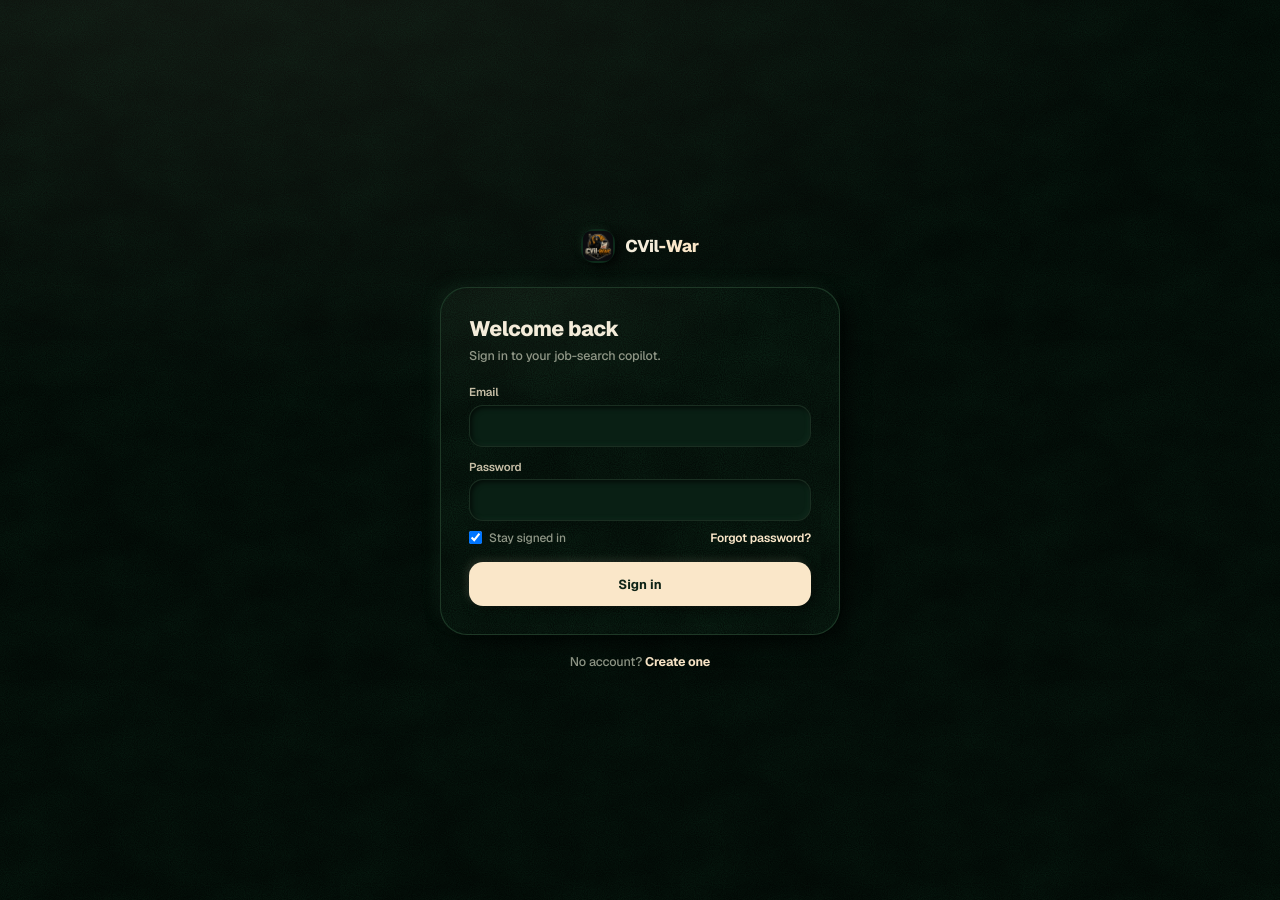
it: LoginPage error handling › tells the user it is an outage when the server 5xxs, not a credential problem
Type "me@test.dev" into the field labelled "Email" at (640,426), box [469,405,811,447]
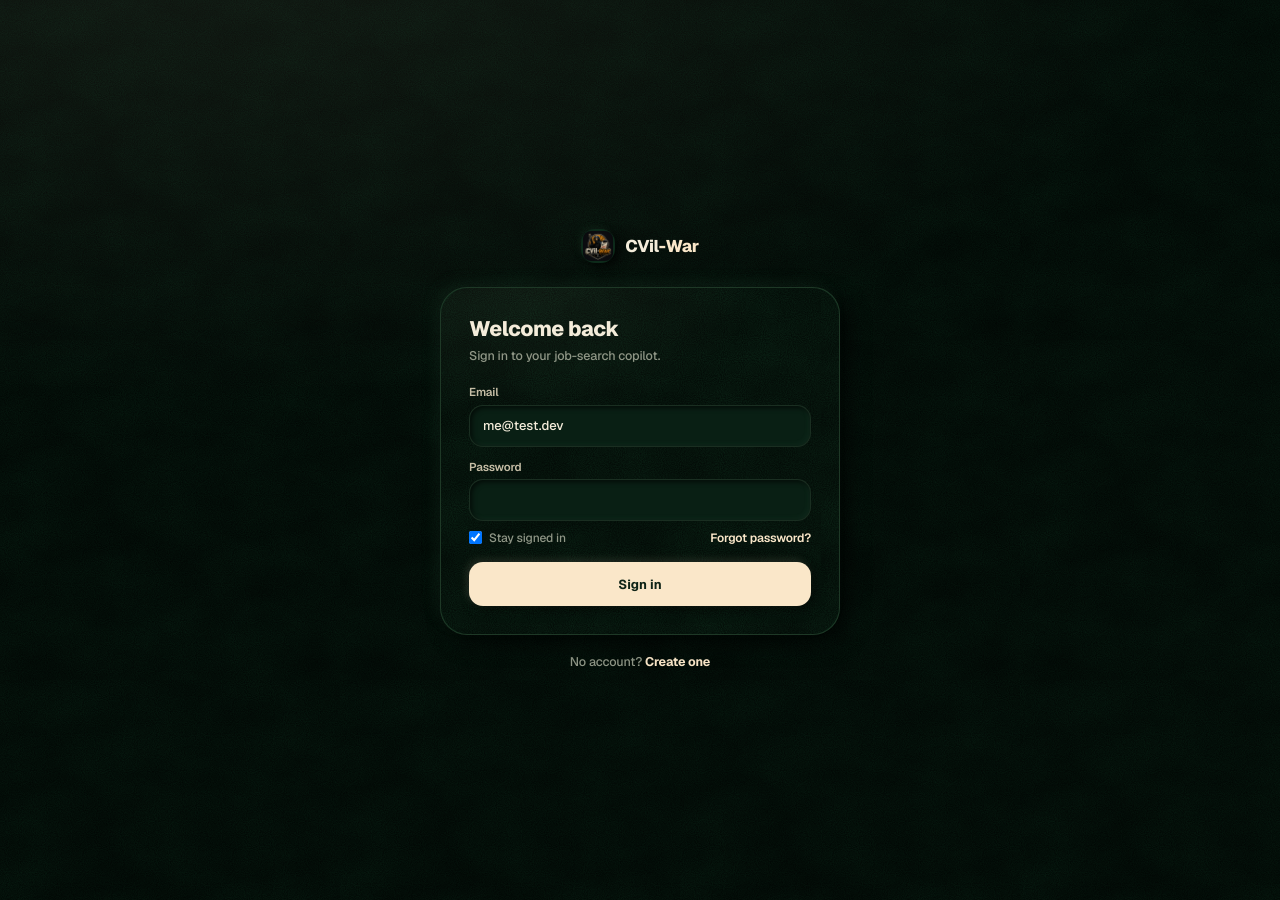
Type "whatever123" into the password field labelled "Password" at (640,500), box [469,479,811,521]
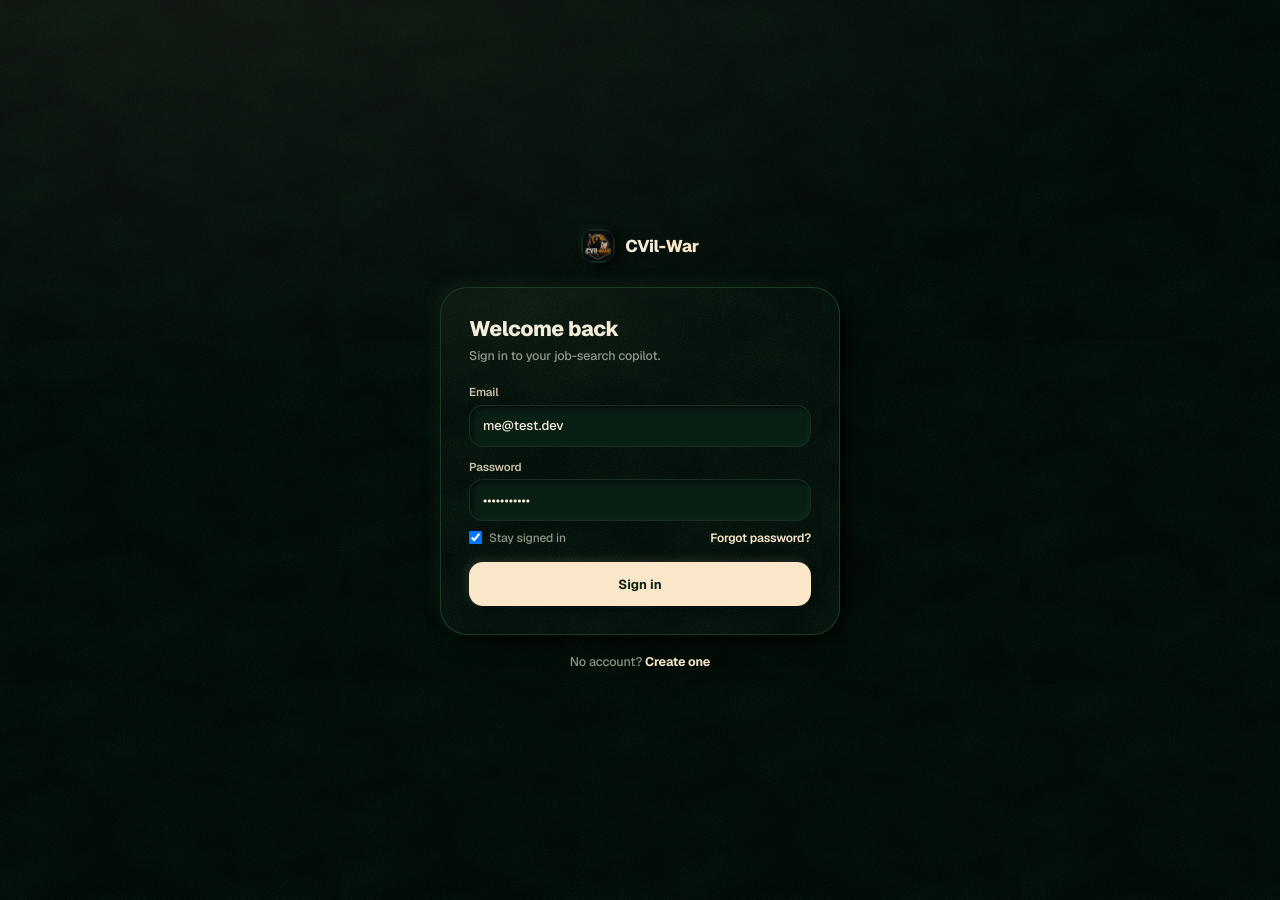
Click the button "Sign in" at (640,584), box [469,562,811,606]
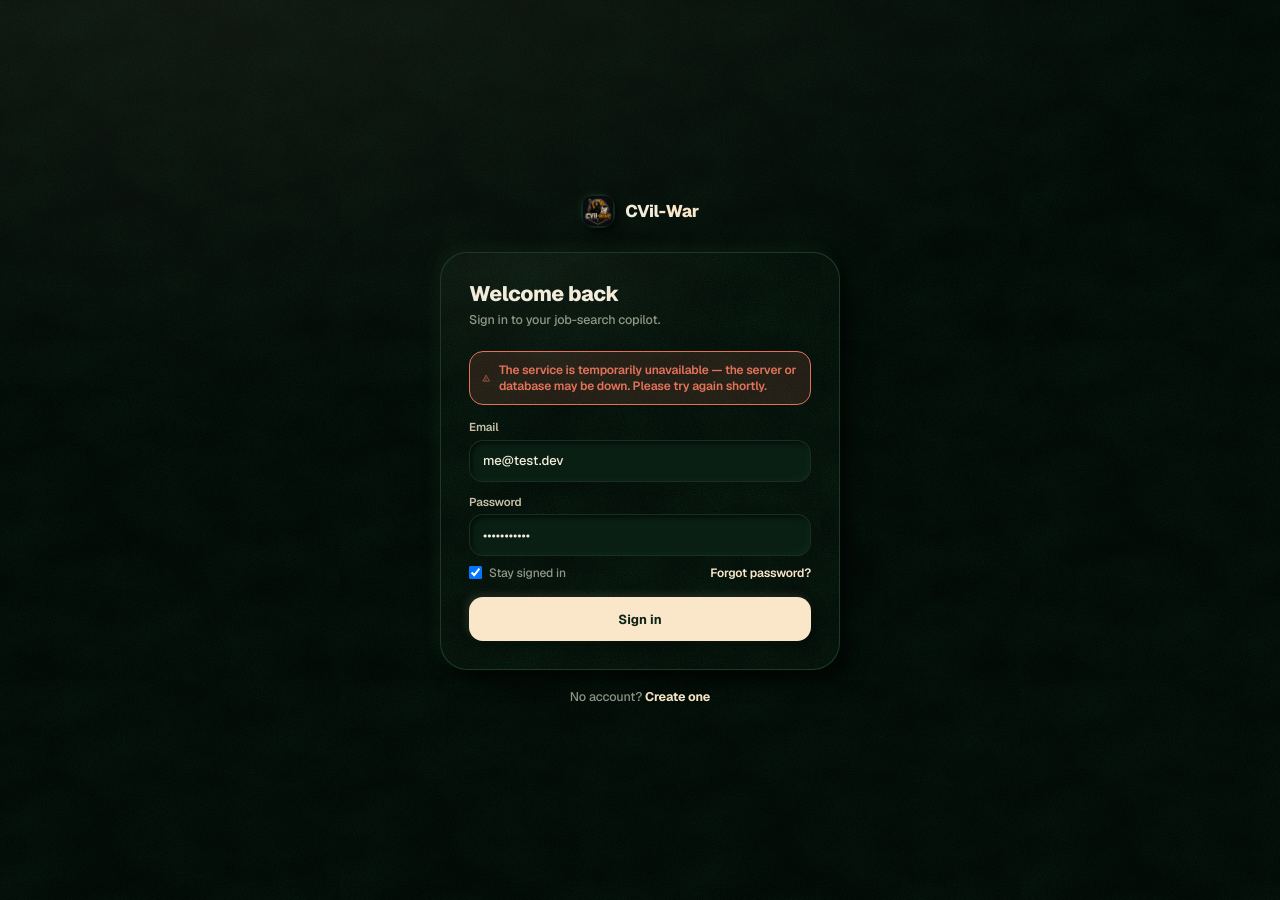
Expected: the text "temporarily unavailable" is shown, [499,362,796,394]
